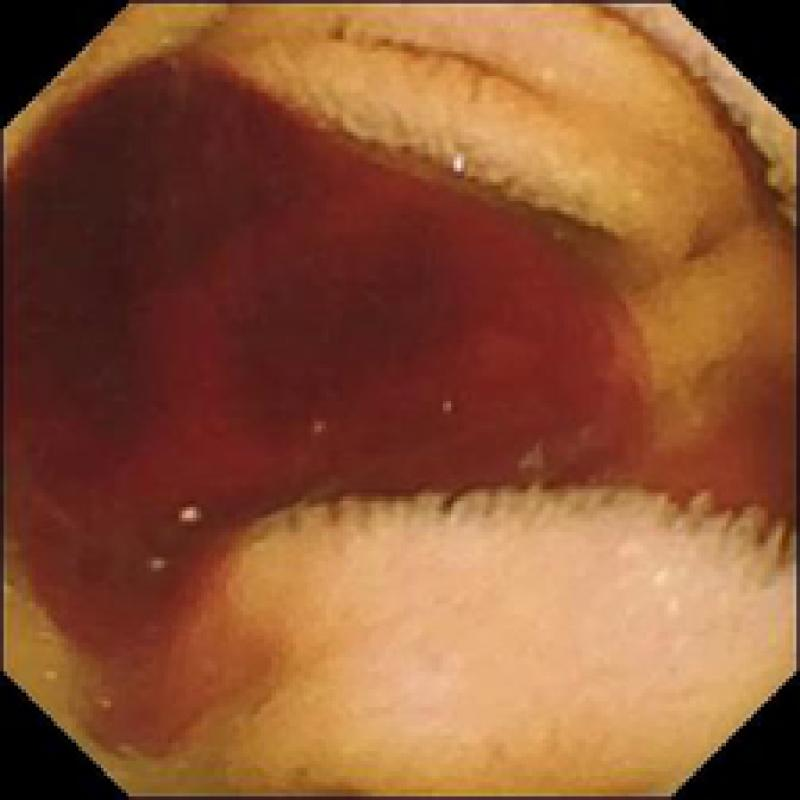bleeding: (0, 46, 650, 711)
